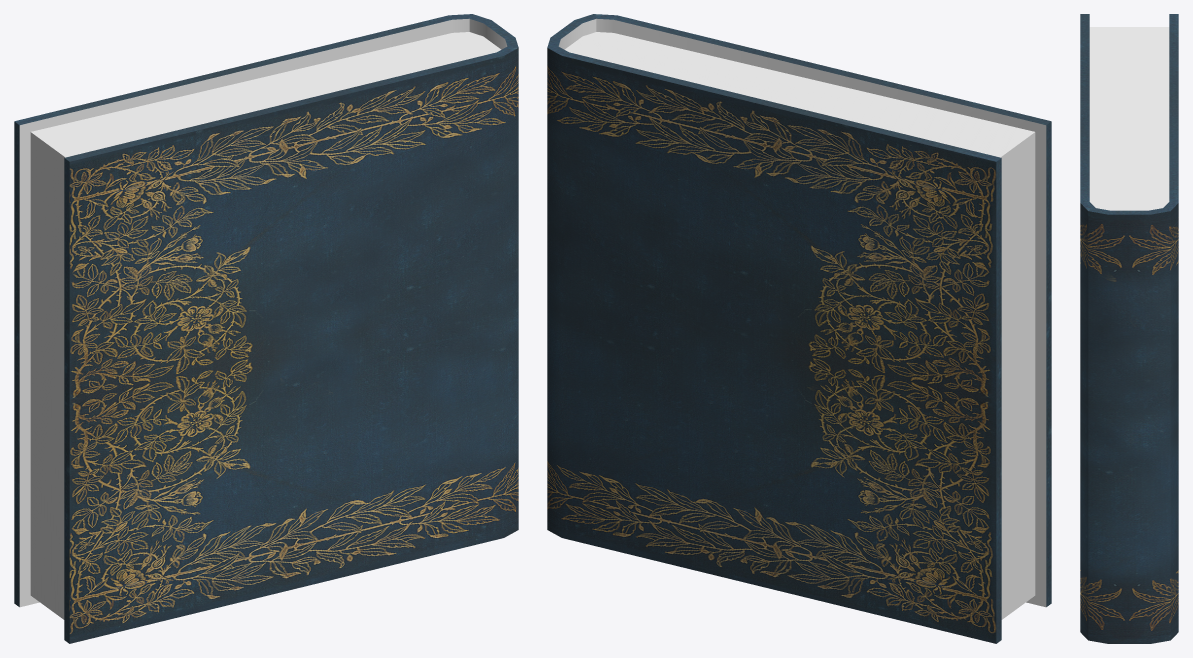
Rendered from TNP0110034.fbx.
3 renders of one model, left to right at view 1: azimuth 30°, elevation 25°; view 2: azimuth 150°, elevation 25°; view 3: azimuth 270°, elevation 25°, orthographic. The views are drawn at different scales.
Parts seen in each view (by area): view 1: smTNP0110034; view 2: smTNP0110034; view 3: smTNP0110034.
Part boxes in pixels (left/top/right/bottom): smTNP0110034: left=14, top=14, right=518, bottom=643; smTNP0110034: left=547, top=14, right=1051, bottom=643; smTNP0110034: left=1080, top=14, right=1178, bottom=643.
Size of the model in its own units: 29.54 by 29.47 by 6.13.
Materials: 1 (1 with a texture image).
